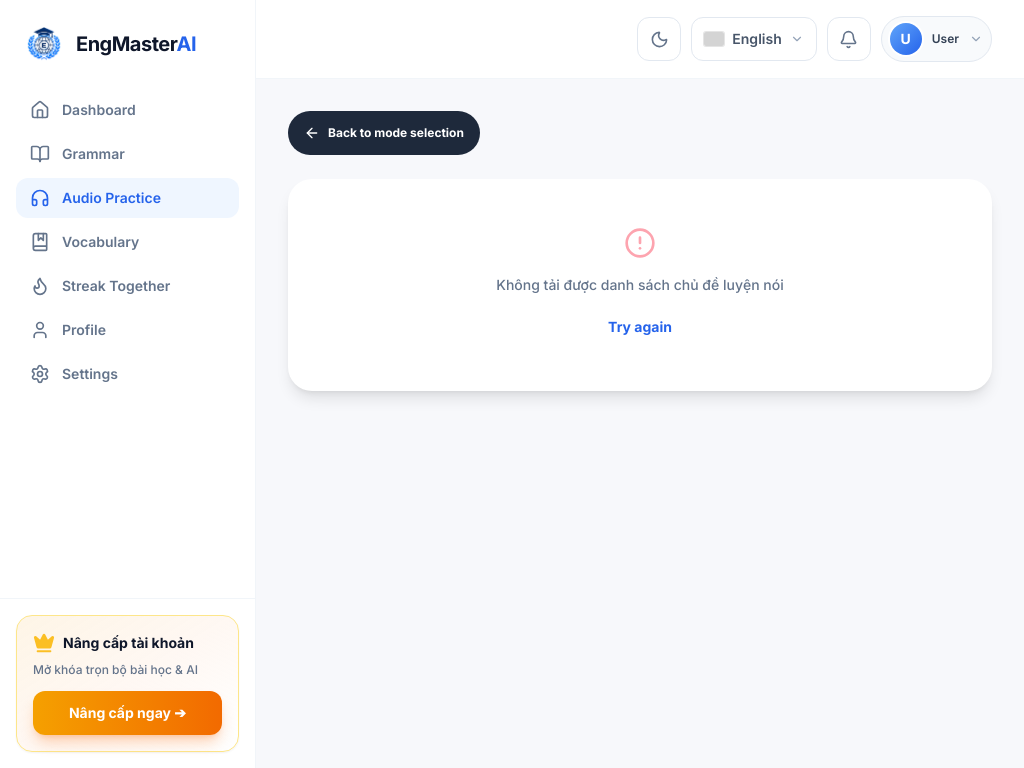
Scenario: Speaking catalog — the three states never blend › shows an explicit, retryable error — NOT an empty catalog
The image size is (1024, 768).
expect the text "Không tải được danh sách chủ đề luyện nói" is shown: met, box top-left (496, 276), bottom-right (784, 293)
Click the button "Try again" at (640, 327), box top-left (596, 311), bottom-right (684, 343)
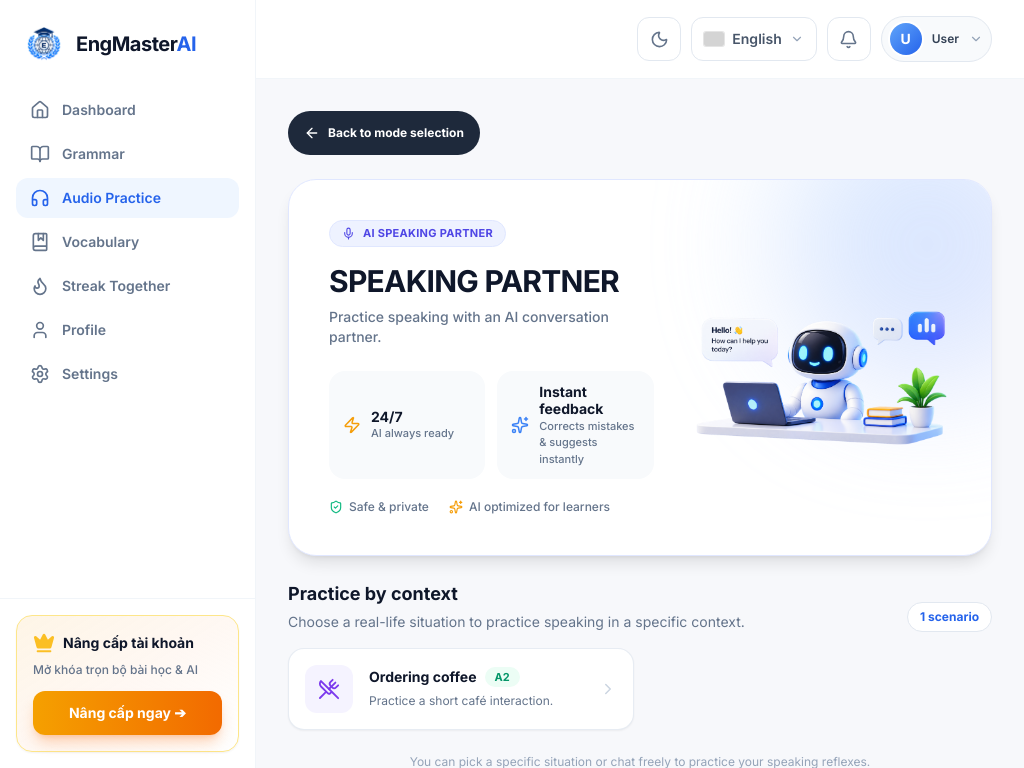
expect the heading "Ordering coffee" is shown: met, box top-left (369, 667), bottom-right (476, 687)
